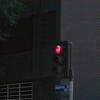Traffic light: (47, 33, 74, 92)
